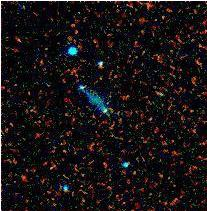star: (89, 89, 119, 119)
